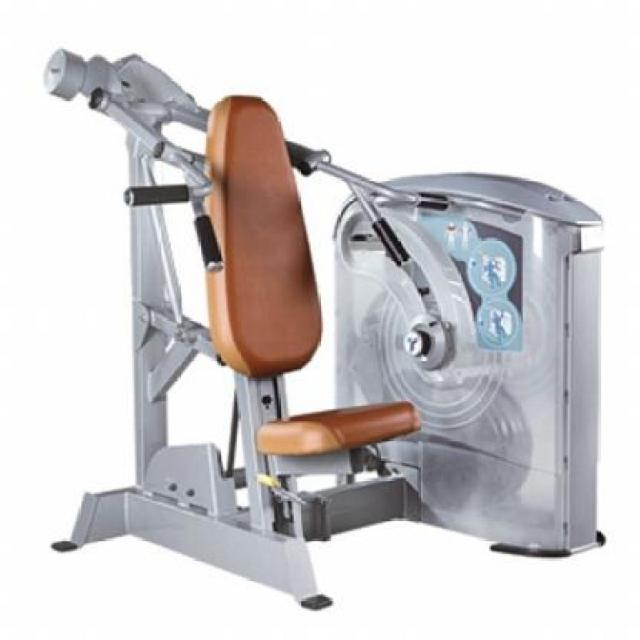shoulder press machine: (40, 42, 612, 610)
